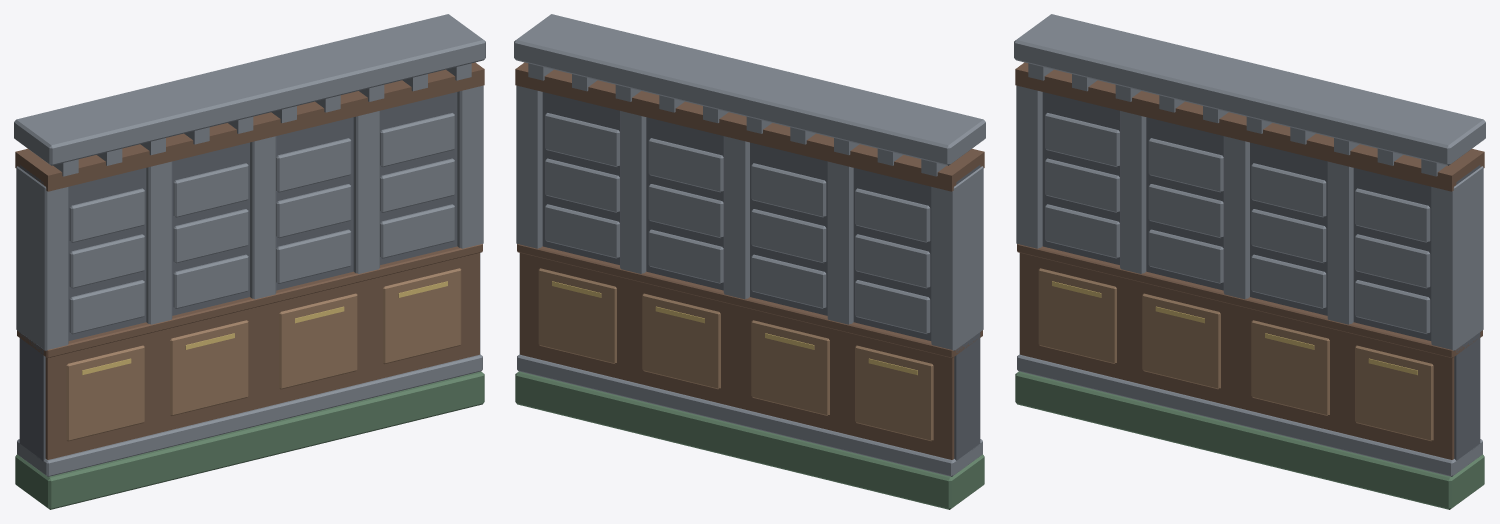
File: castle_wall.glb
3 views of the same model, side by side, from view 1: azimuth 30°, elevation 25°; view 2: azimuth 150°, elevation 25°; view 3: azimuth 330°, elevation 25° (orthographic).
Parts seen in each view (by area): view 1: Castle_Wall; view 2: Castle_Wall; view 3: Castle_Wall.
Boxes of the visible parts, x1=… form: Castle_Wall: x1=14, y1=14, x2=485, y2=509; Castle_Wall: x1=514, y1=14, x2=985, y2=509; Castle_Wall: x1=1014, y1=14, x2=1485, y2=509.
Bounding box in the file's own units: 4.02 × 3.2 × 0.6.
